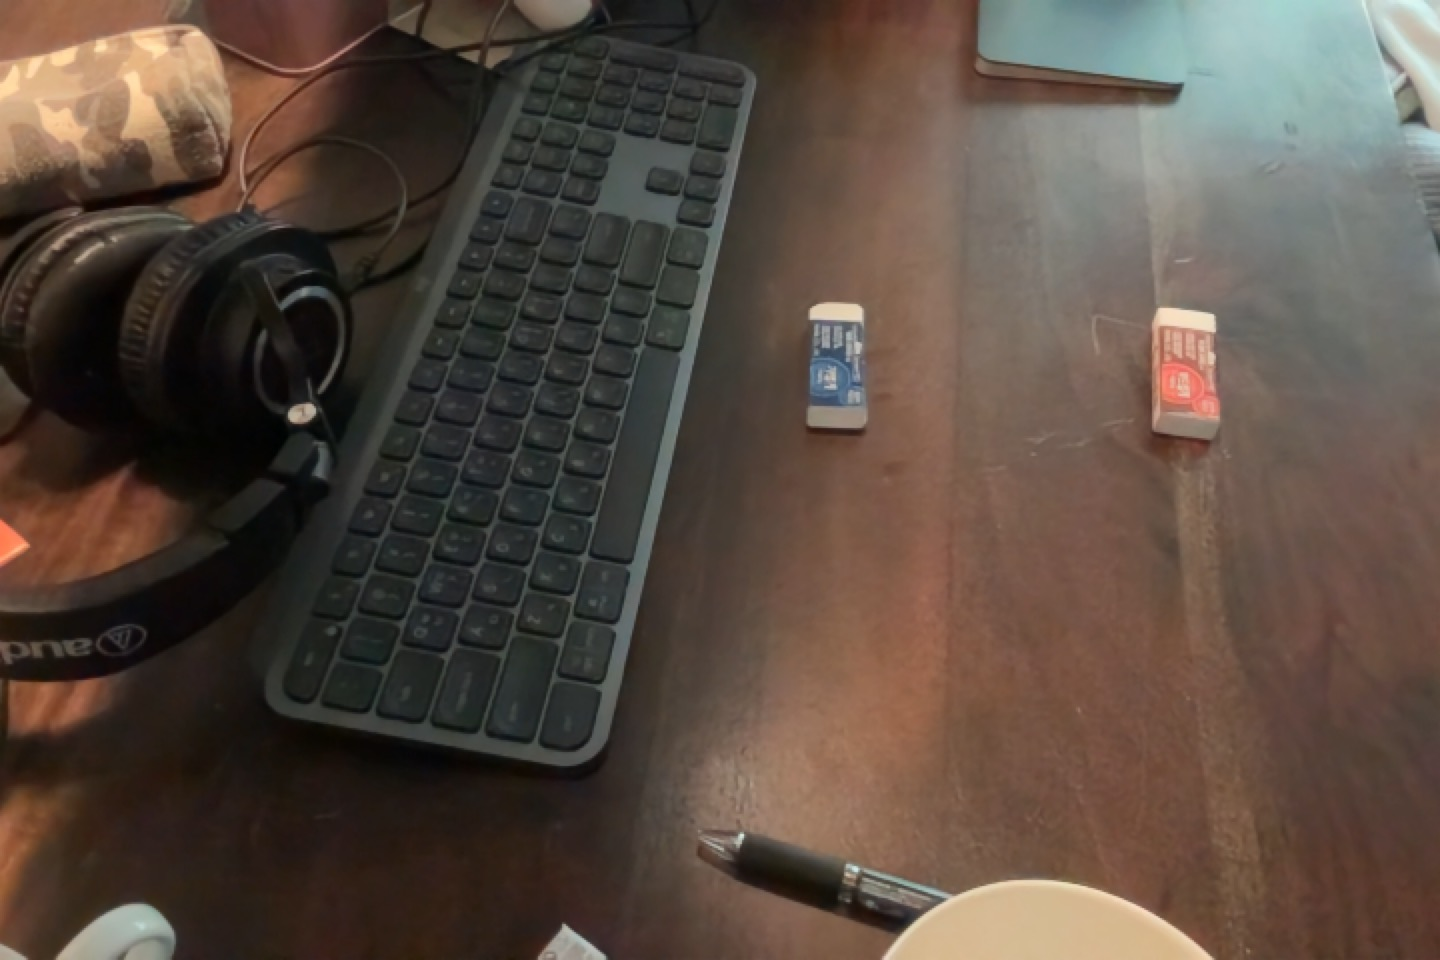blue: (796, 286, 882, 449)
red: (1135, 286, 1242, 468)
